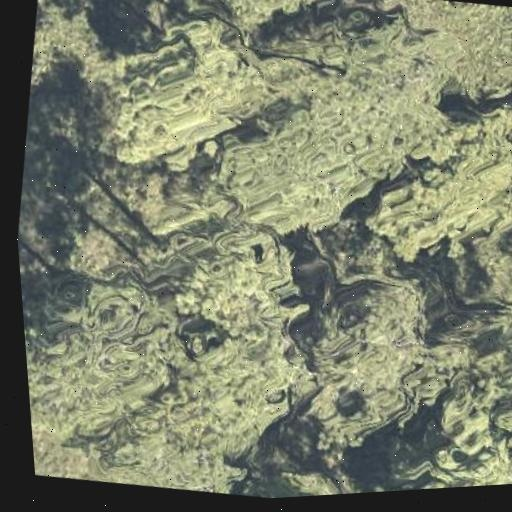tree-top: (205, 67, 433, 248), (69, 0, 280, 187), (283, 250, 459, 462), (20, 262, 181, 446), (354, 90, 512, 272), (145, 300, 307, 474), (165, 211, 314, 340), (381, 0, 512, 120), (23, 0, 115, 104), (176, 0, 335, 38), (422, 433, 512, 489)
